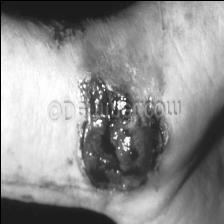Potentially Malignant Skin Tumors: (80, 80, 166, 189)
